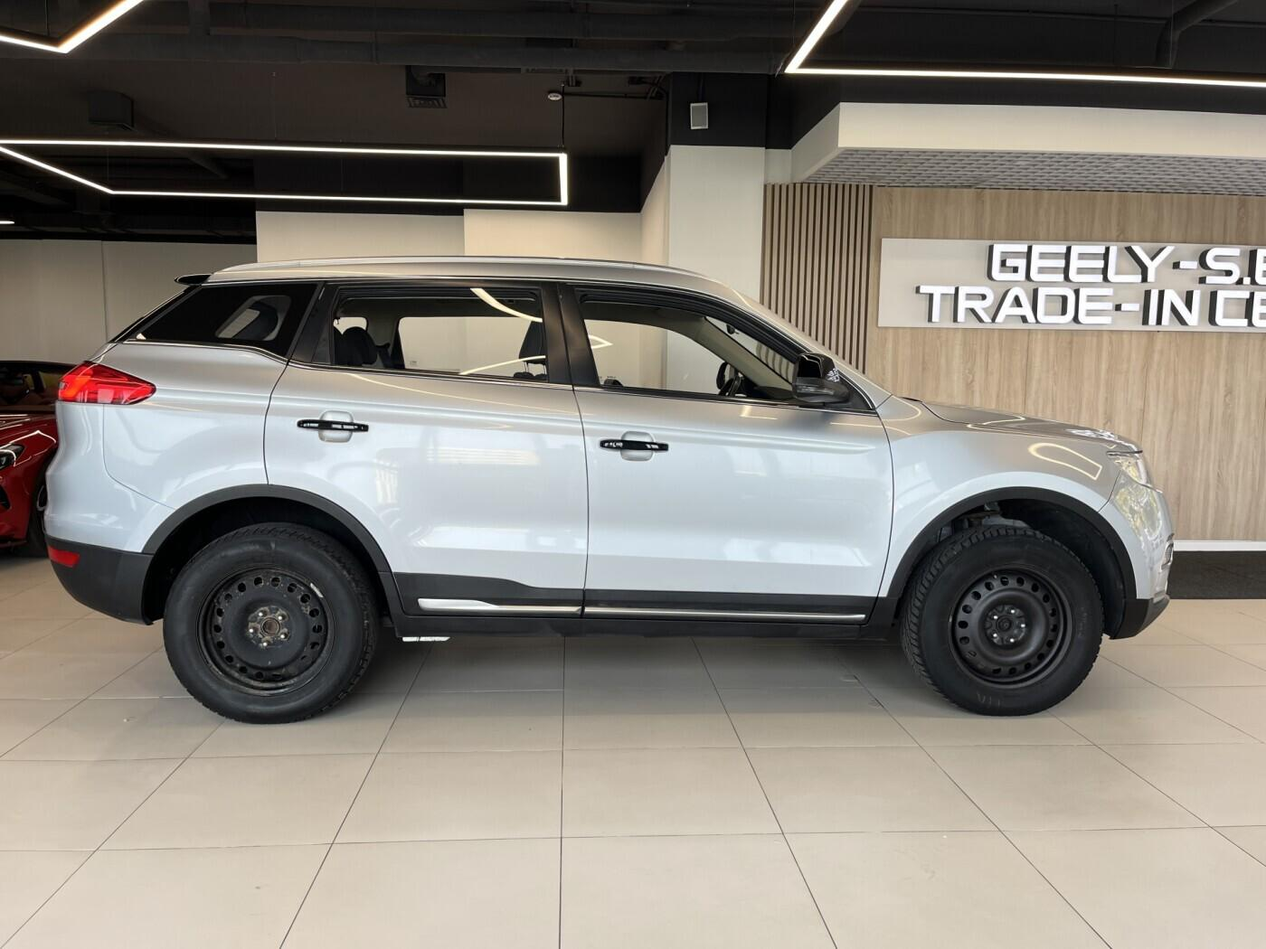Atlas_2016-2023: (37, 248, 1179, 723)
